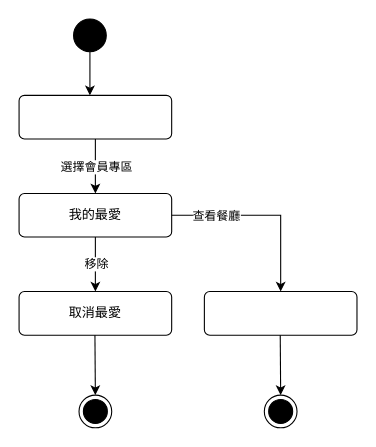
Some shapes in this 376 by 447 pixel diagram are drawn without their labels. The shapes that lost their labels are listed below. From the top down, each one's centre as x and y in pixels, then its label:
pixel 95 116: 登入中
pixel 280 312: 選擇餐廳
